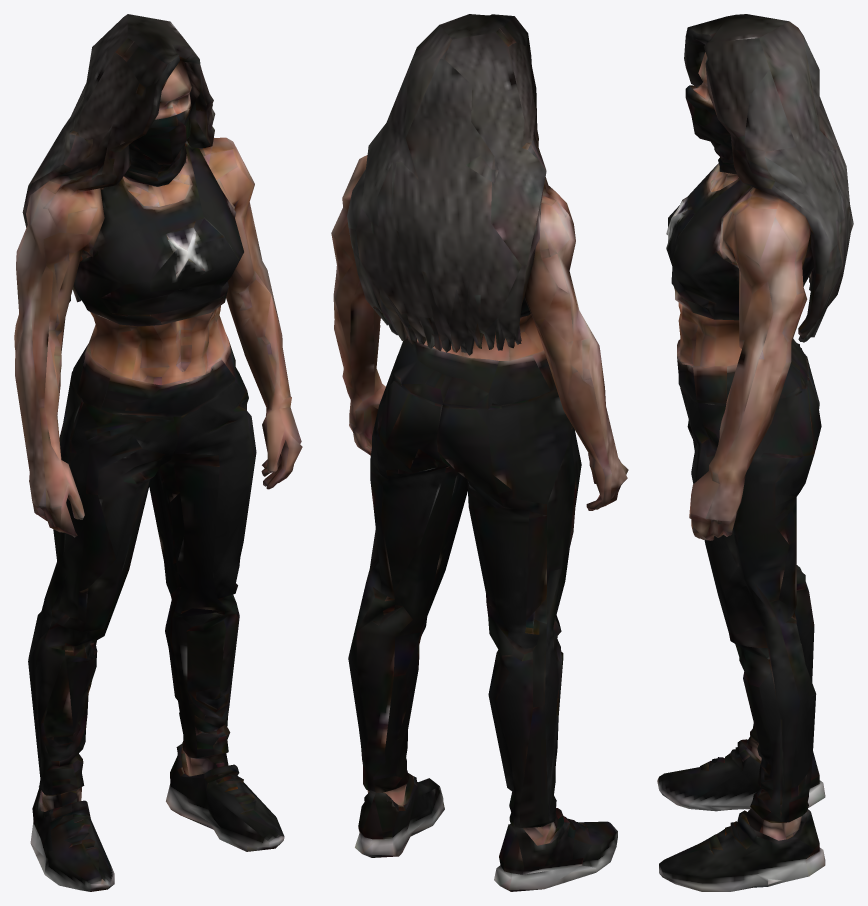
File: Catalina-low.glb
3 renders of one model, left to right at view 1: azimuth 30°, elevation 25°; view 2: azimuth 150°, elevation 25°; view 3: azimuth 270°, elevation 25°, orthographic.
Parts seen in each view (by area): view 1: tripo_node_35de7830-fcf4-479b-8be9-1ef136c81772; view 2: tripo_node_35de7830-fcf4-479b-8be9-1ef136c81772; view 3: tripo_node_35de7830-fcf4-479b-8be9-1ef136c81772.
Part boxes in pixels (x1=…): tripo_node_35de7830-fcf4-479b-8be9-1ef136c81772: x1=14, y1=14, x2=302, y2=891; tripo_node_35de7830-fcf4-479b-8be9-1ef136c81772: x1=331, y1=14, x2=628, y2=891; tripo_node_35de7830-fcf4-479b-8be9-1ef136c81772: x1=657, y1=14, x2=853, y2=891.
Size of the model in its own units: 0.3273 by 0.9724 by 0.2106.
1 material, 1 textured.
